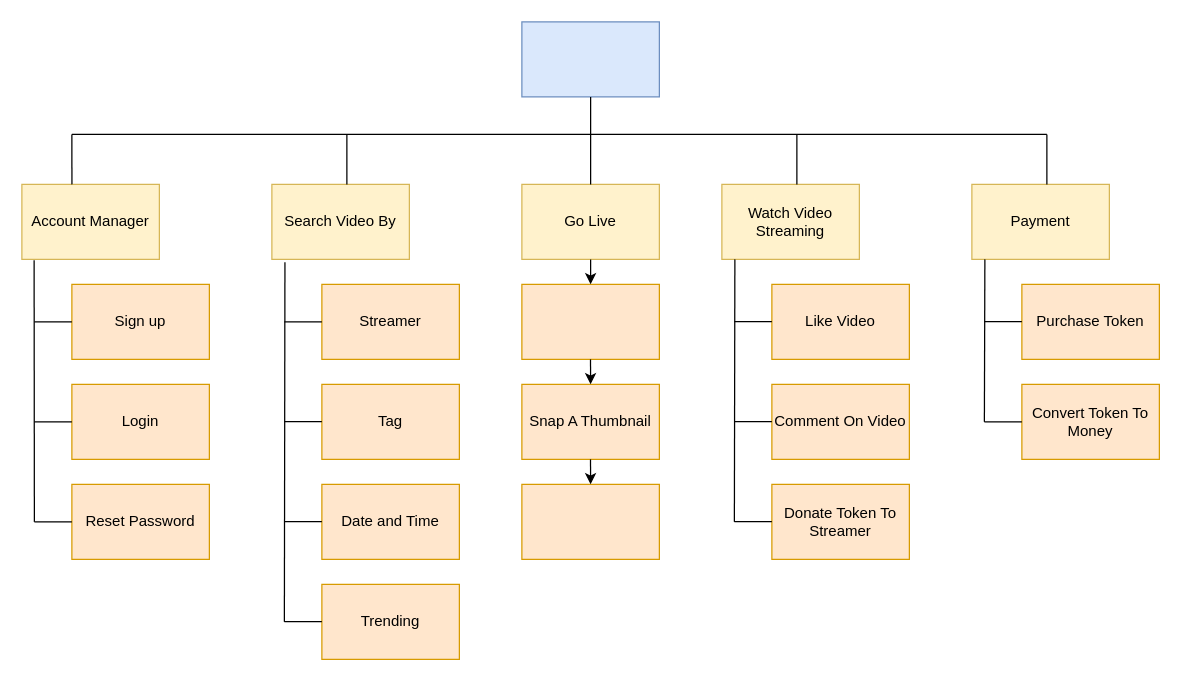
Some shapes in this 1181 by 681 pixel diagram are drawn without their labels. The shapes that lost their labels are listed below. From the top down, each one's centre as x and y in pixels, then its label:
At (590,59): "Home".
At (590,321): "Set Webcam Infomation".
At (590,521): "Start Streaming".
